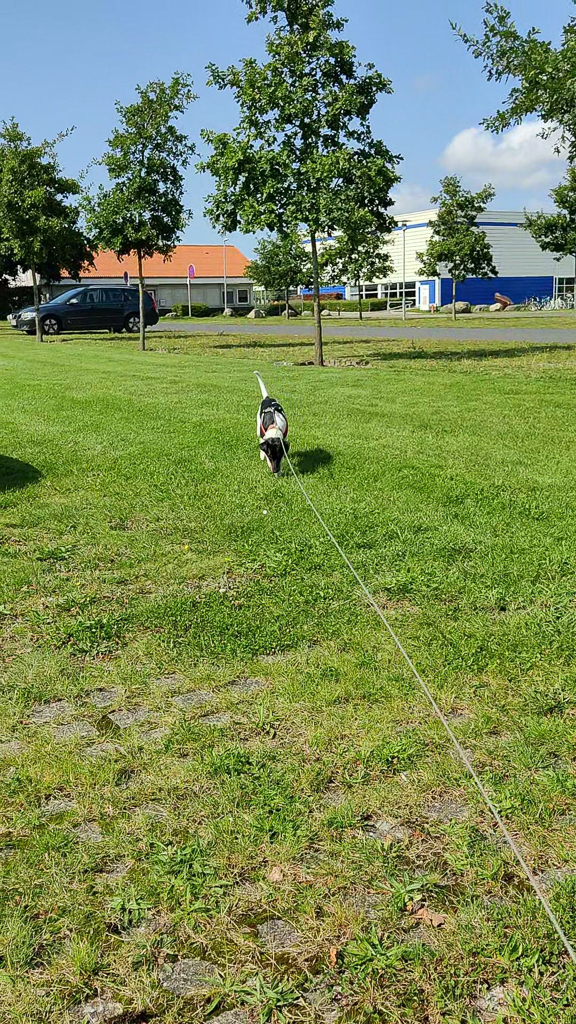Dog: (242, 365, 297, 478)
